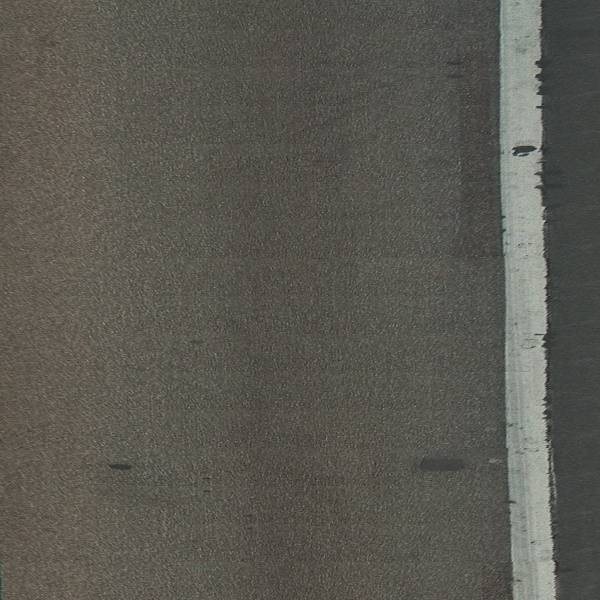road_damage: (532, 156, 567, 354)
